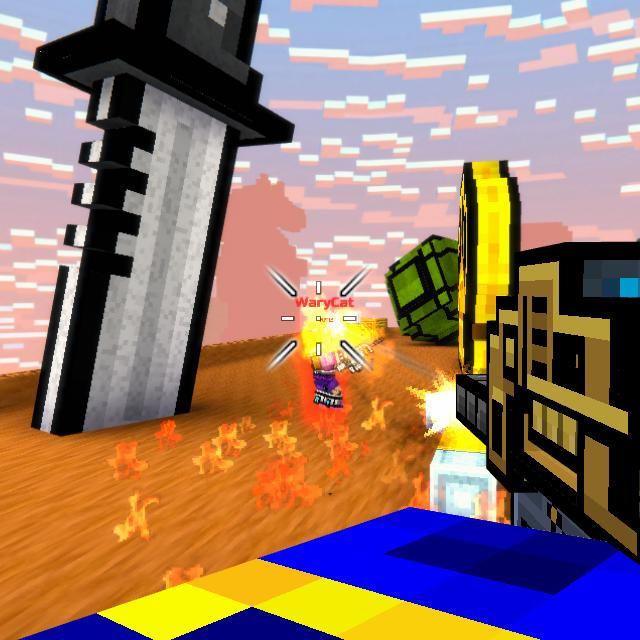Enemy: (311, 323, 347, 409)
